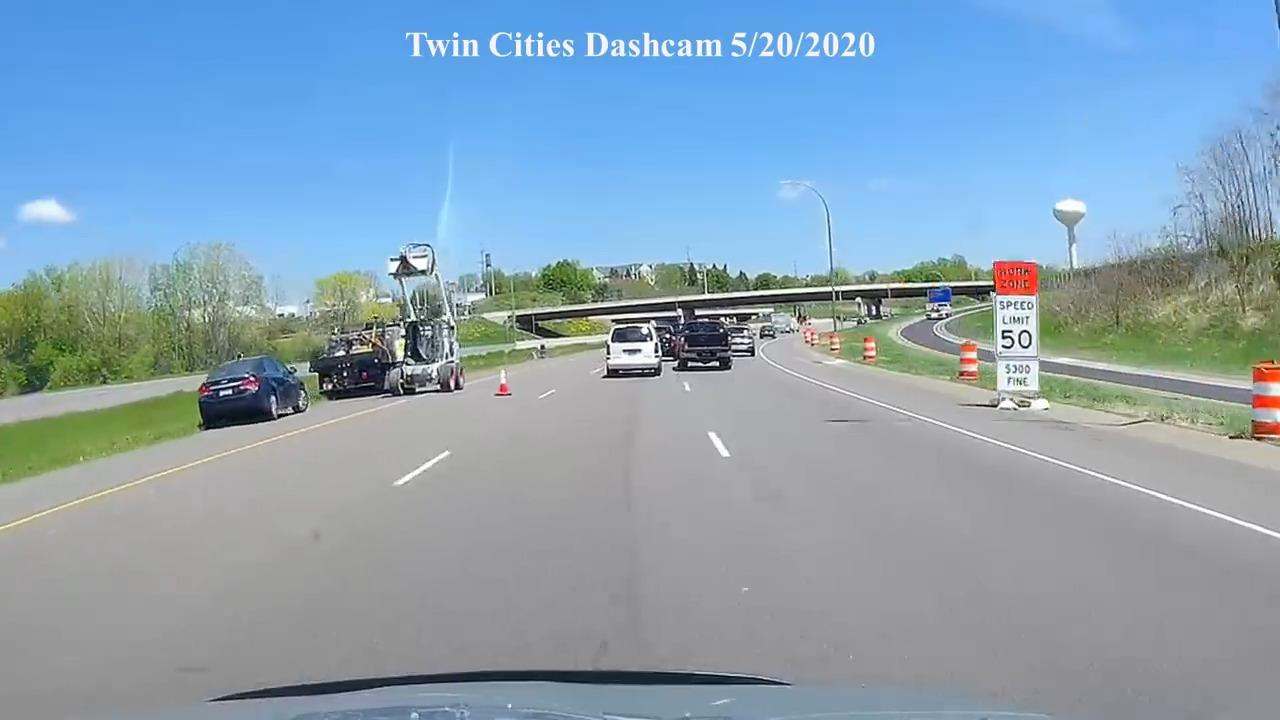car: (196, 355, 309, 430), (926, 288, 954, 320)
traffic cone: (956, 340, 980, 381), (494, 368, 512, 397), (861, 335, 878, 363), (802, 321, 817, 346), (828, 332, 841, 354)
